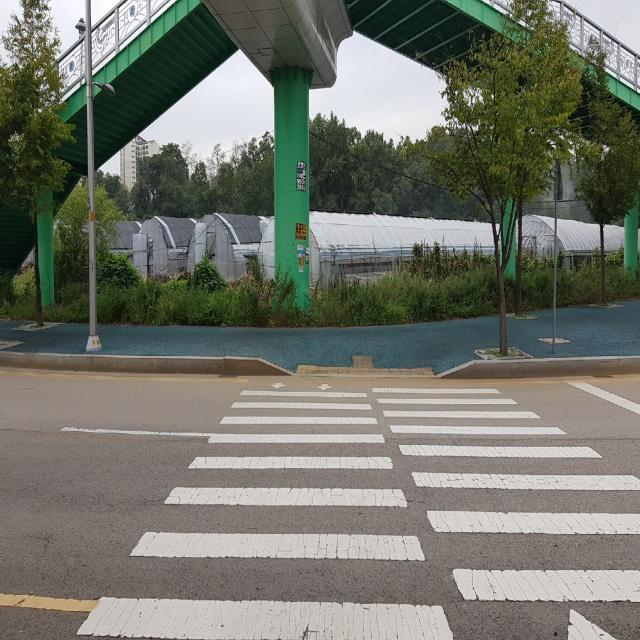횡단보도: (74, 380, 640, 639)
